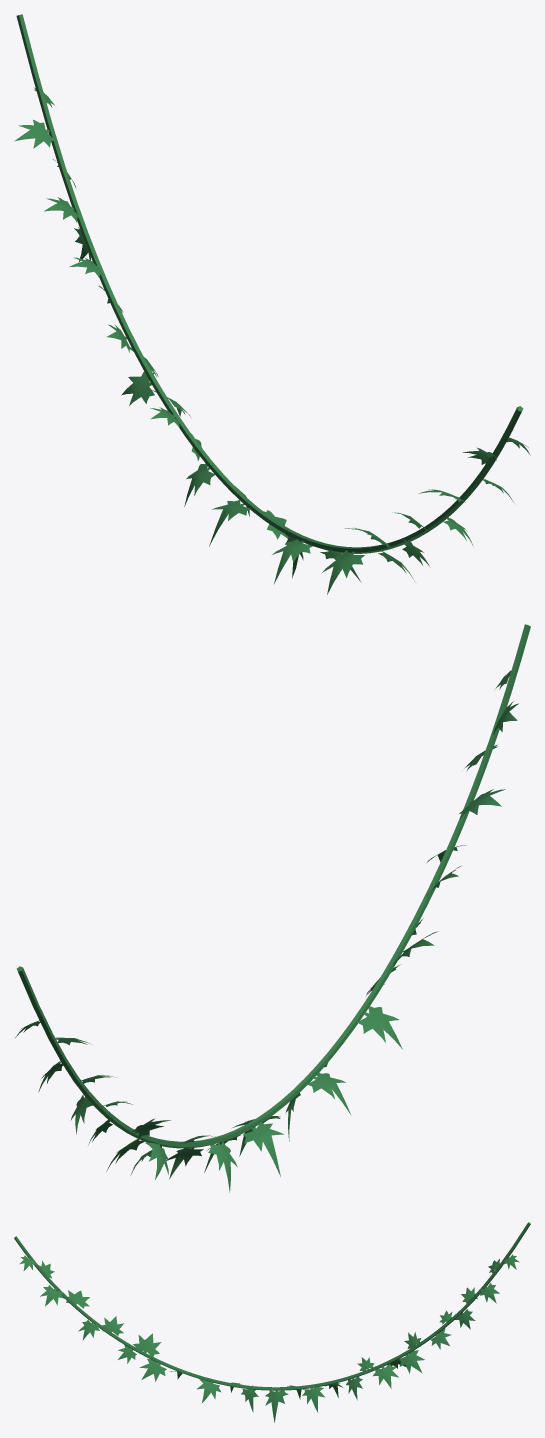
File: vine_hori_C_alangium.fbx
The picture shows the model from 3 angles, top to bottom: view 1: azimuth 30°, elevation 25°; view 2: azimuth 150°, elevation 25°; view 3: azimuth 270°, elevation 25°; orthographic projection. The views are drawn at different scales.
Visible parts, largest first — view 1: vine_hori_C_alangium_root; view 2: vine_hori_C_alangium_root, vine_alangium_A_leaf_B130, vine_alangium_A_leaf_B133; view 3: vine_hori_C_alangium_root, vine_alangium_A_leaf_B, vine_alangium_A_leaf_B129, vine_alangium_A_leaf_B141, vine_alangium_A_leaf_B157, vine_alangium_A_leaf_B140, vine_alangium_A_leaf_B139, vine_alangium_A_leaf_B137.
Part boxes in pixels (<box>): vine_hori_C_alangium_root: <box>16,14,523,553</box>; vine_hori_C_alangium_root: <box>17,624,530,1148</box>; vine_alangium_A_leaf_B130: <box>357,1006,402,1049</box>; vine_alangium_A_leaf_B133: <box>242,1122,283,1176</box>; vine_hori_C_alangium_root: <box>14,1222,530,1390</box>; vine_alangium_A_leaf_B: <box>133,1333,161,1356</box>; vine_alangium_A_leaf_B129: <box>265,1389,288,1422</box>; vine_alangium_A_leaf_B141: <box>399,1350,424,1373</box>; vine_alangium_A_leaf_B157: <box>139,1358,166,1381</box>; vine_alangium_A_leaf_B140: <box>373,1364,398,1388</box>; vine_alangium_A_leaf_B139: <box>197,1379,221,1402</box>; vine_alangium_A_leaf_B137: <box>302,1386,324,1412</box>.
Bounding box in the file's own units: 40.47 × 195 × 474.
